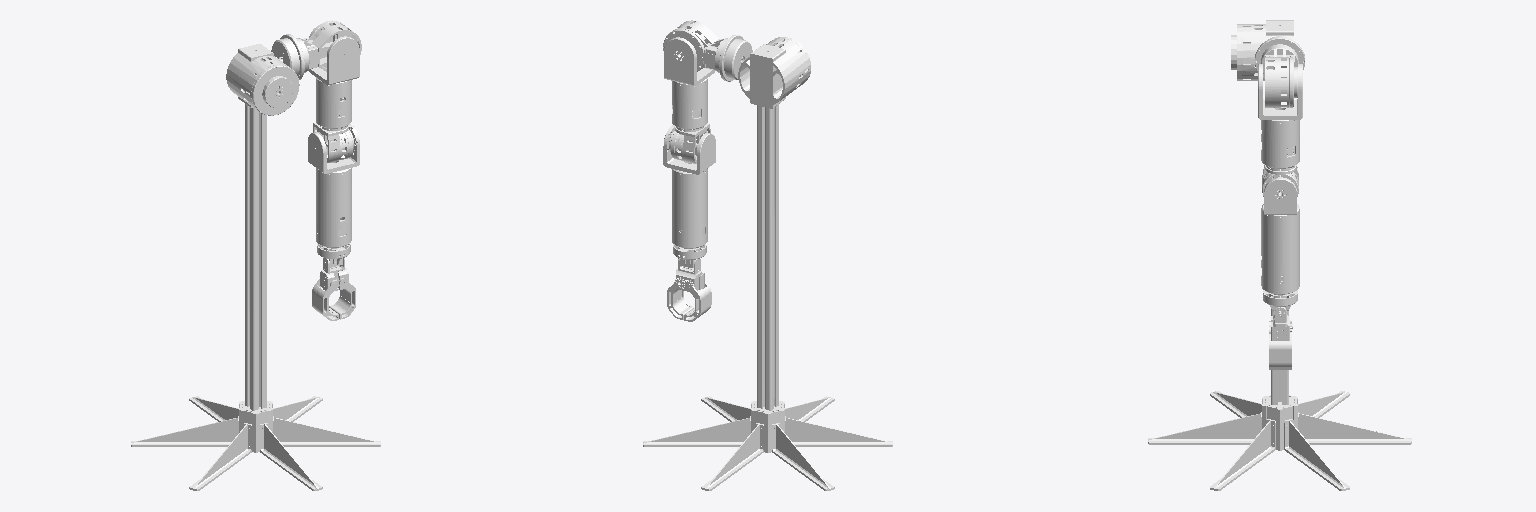
URDF robot description (arm1_URDF):
<?xml version='1.0' encoding='utf-8'?>
<robot name="arm1_URDF">
    <material name="white">
        <color rgba="1.0 1.0 1.0 1.0"/>
    </material>

    <link name="base">
        <visual name="base_visual">
            <origin xyz="0.0 0.0 0.0" rpy="0.0 0.0 0.0" />
            <geometry>
                <mesh filename="package://final_project/meshes/base.stl" scale="0.001 0.001 0.001" />
            </geometry>
            <material name="white"/> </visual>
        <collision name="base_collision">
            <origin xyz="0.0 0.0 0.0" rpy="0.0 0.0 0.0" />
            <geometry>
                <mesh filename="package://final_project/meshes/base.stl" scale="0.001 0.001 0.001" />
            </geometry>
        </collision>
    </link>

    <link name="G_2">
        <inertial>
            <origin xyz="-4.8145237741863414e-05 0.05165000270198917 -0.002790724958750035" rpy="0.0 -0.0 0.0" />
            <mass value="1.4023223893809473" />
            <inertia ixx="0.001272464352744418" iyy="0.0012741334763336012" izz="0.0020653341471157383" ixy="-1.110223053643625e-16" iyz="2.081909243396548e-17" ixz="-9.523880961390572e-07" />
        </inertial>
        <visual name="G_2_visual">
            <origin xyz="2.0128346989167768e-10 0.05165000270197766 0.01300000375024975" rpy="2.1137605554777422e-15 7.4824881293612875e-16 1.5707963267948968" />
            <geometry>
                <mesh filename="package://final_project/meshes/G_2.stl" scale="0.001 0.001 0.001" />
            </geometry>
            <material name="white"/> </visual>
        <collision name="G_2_collision">
            <origin xyz="2.0128346989167768e-10 0.05165000270197766 0.01300000375024975" rpy="2.1137605554777422e-15 7.4824881293612875e-16 1.5707963267948968" />
            <geometry>
                <mesh filename="package://final_project/meshes/G_2.stl" scale="0.001 0.001 0.001" />
            </geometry>
        </collision>
    </link>

    <link name="G_4">
        <inertial>
            <origin xyz="0.05935499319035209 0.004031725154343588 4.315289153140612e-06" rpy="0.0 -0.0 0.0" />
            <mass value="2.4058767362541364" />
            <inertia ixx="0.00254613790500402" iyy="0.007471226648819496" izz="0.006480794930182138" ixy="-0.00042671993814662407" iyz="-2.6220205331592417e-07" ixz="-5.712604365659679e-07" />
        </inertial>
        <visual name="G_4_visual">
            <origin xyz="-0.06519999979871717 -3.750249686906848e-09 2.7019765980185186e-09" rpy="-3.141592653589793 -5.163040450613385e-30 -3.8424124992884325e-16" />
            <geometry>
                <mesh filename="package://final_project/meshes/G_4.stl" scale="0.001 0.001 0.001" />
            </geometry>
            <material name="white"/> </visual>
        <collision name="G_4_collision">
            <origin xyz="-0.06519999979871717 -3.750249686906848e-09 2.7019765980185186e-09" rpy="-3.141592653589793 -5.163040450613385e-30 -3.8424124992884325e-16" />
            <geometry>
                <mesh filename="package://final_project/meshes/G_4.stl" scale="0.001 0.001 0.001" />
            </geometry>
        </collision>
    </link>

    <link name="G_5">
        <inertial>
            <origin xyz="-5.7580882307952665e-05 0.039280374970969485 0.08083082075167425" rpy="0.0 -0.0 0.0" />
            <mass value="3.466326586867893" />
            <inertia ixx="0.01833231958242143" iyy="0.016487101144509797" izz="0.006248046731958307" ixy="-2.1662482159196667e-08" iyz="4.07321564180425e-05" ixz="1.1403774099583153e-05" />
        </inertial>
        <visual name="G_5_visual">
            <origin xyz="2.0128354094595124e-10 0.04037499624975049 -0.16054999729802374" rpy="-3.1415926535897913 -1.5707963267948957 0" />
            <geometry>
                <mesh filename="package://final_project/meshes/G_5.stl" scale="0.001 0.001 0.001" />
            </geometry>
            <material name="white"/> </visual>
        <collision name="G_5_collision">
            <origin xyz="2.0128354094595124e-10 0.04037499624975049 -0.16054999729802374" rpy="-3.1415926535897913 -1.5707963267948957 0" />
            <geometry>
                <mesh filename="package://final_project/meshes/G_5.stl" scale="0.001 0.001 0.001" />
            </geometry>
        </collision>
    </link>

    <link name="G_7">
        <inertial>
            <origin xyz="-0.03998592210060096 -3.6356901924380903e-06 -0.002861891143963007" rpy="-3.589353794432332e-78 -0.0 0.0" />
            <mass value="2.368980623912673" />
            <inertia ixx="0.0019416311242154427" iyy="0.003355777604337584" izz="0.003523029622525935" ixy="2.4541574842760787e-07" iyz="2.145374126797002e-07" ixz="-0.0001750406574957637" />
        </inertial>
        <visual name="G_7_visual">
            <origin xyz="-0.057550002701976695 3.750245075595515e-09 -0.011500000201280365" rpy="3.141592653589793 -1.10361217236557e-15 -1.5707963267948697" />
            <geometry>
                <mesh filename="package://final_project/meshes/G_7.stl" scale="0.001 0.001 0.001" />
            </geometry>
            <material name="white"/> </visual>
        <collision name="G_7_collision">
            <origin xyz="-0.057550002701976695 3.750245075595515e-09 -0.011500000201280365" rpy="3.141592653589793 -1.10361217236557e-15 -1.5707963267948697" />
            <geometry>
                <mesh filename="package://final_project/meshes/G_7.stl" scale="0.001 0.001 0.001" />
            </geometry>
        </collision>
    </link>

    <link name="G_13">
        <inertial>
            <origin xyz="0.01623077756239752 -0.050990561533745905 0.020079991077276673" rpy="0.0 1.2668940227414186e-48 0.0" />
            <mass value="0.41626138634141535" />
            <inertia ixx="0.0004432468996341532" iyy="0.00016897175375006287" izz="0.0004028918180213751" ixy="-3.11176719610465e-05" iyz="4.0510613619287055e-06" ixz="-1.3099358946991532e-06" />
        </inertial>
        <visual name="G_13_visual">
            <origin xyz="2.0125682453908667e-10 -2.6986778323134787e-09 0.018499996249768325" rpy="-3.1415926535897545 2.7586953781964552e-14 1.5707963267948972" />
            <geometry>
                <mesh filename="package://final_project/meshes/G_13.stl" scale="0.001 0.001 0.001" />
            </geometry>
            <material name="white"/> </visual>
        <collision name="G_13_collision">
            <origin xyz="2.0125682453908667e-10 -2.6986778323134787e-09 0.018499996249768325" rpy="-3.1415926535897545 2.7586953781964552e-14 1.5707963267948972" />
            <geometry>
                <mesh filename="package://final_project/meshes/G_13.stl" scale="0.001 0.001 0.001" />
            </geometry>
        </collision>
    </link>

    <link name="G_25">
        <inertial>
            <origin xyz="-0.04021770217309118 3.594903811657252e-05 0.11308873190424187" rpy="0.0 -0.0 0.0" />
            <mass value="3.9257219266470815" />
            <inertia ixx="0.031008283294245542" iyy="0.032519063409173654" izz="0.006387139438659789" ixy="-6.178516376298404e-08" iyz="3.4212091688482806e-05" ixz="-9.652927935599465e-05" />
        </inertial>
        <visual name="G_25_visual">
            <origin xyz="-0.20042499979871867 0.0013749962497433582 -0.25704999729802425" rpy="3.1415926535897665 4.567492924801194e-16 -5.1174342541353607e-17" />
            <geometry>
                <mesh filename="package://final_project/meshes/G_25.stl" scale="0.001 0.001 0.001" />
            </geometry>
            <material name="white"/> </visual>
        <collision name="G_25_collision">
            <origin xyz="-0.20042499979871867 0.0013749962497433582 -0.25704999729802425" rpy="3.1415926535897665 4.567492924801194e-16 -5.1174342541353607e-17" />
            <geometry>
                <mesh filename="package://final_project/meshes/G_25.stl" scale="0.001 0.001 0.001" />
            </geometry>
        </collision>
    </link>

    <link name="G_27">
        <inertial>
            <origin xyz="4.24878932776096e-06 -3.6955642726543836e-08 -0.021545386615044605" rpy="0.0 -0.0 0.0" />
            <mass value="1.031862602100711" />
            <inertia ixx="0.0006021549368913082" iyy="0.0005618534325824154" izz="0.0004886525498680738" ixy="9.417161508603644e-10" iyz="-1.169084286841672e-10" ixz="4.453147348092709e-08" />
        </inertial>
        <visual name="G_27_visual">
            <origin xyz="-0.16042499979872615 -0.0013749962497555976 0.4026999973013231" rpy="-2.6664811242653585e-14 1.3305674229158715e-16 7.892991815695737e-17" />
            <geometry>
                <mesh filename="package://final_project/meshes/G_27.stl" scale="0.001 0.001 0.001" />
            </geometry>
            <material name="white"/> </visual>
        <collision name="G_27_collision">
            <origin xyz="-0.16042499979872615 -0.0013749962497555976 0.4026999973013231" rpy="-2.6664811242653585e-14 1.3305674229158715e-16 7.892991815695737e-17" />
            <geometry>
                <mesh filename="package://final_project/meshes/G_27.stl" scale="0.001 0.001 0.001" />
            </geometry>
        </collision>
    </link>

    <link name="G_28">
        <inertial>
            <origin xyz="-0.068347930458783 -0.00019460842477868307 0.029549211332298847" rpy="-3.067013772411597e-121 -0.0 0.0" />
            <mass value="0.8916811263276078" />
            <inertia ixx="0.0005694478303693226" iyy="0.0018081931798489266" izz="0.0015723146734181888" ixy="4.6348577789113733e-07" iyz="-5.373036988277966e-06" ixz="0.00035615545917725425" />
        </inertial>
        <visual name="G_28_visual">
            <origin xyz="0.4529499973013176 -0.0013749962497559382 0.17742499979873572" rpy="-2.7592757999390442e-14 1.570796326794874 0" />
            <geometry>
                <mesh filename="package://final_project/meshes/G_28.stl" scale="0.001 0.001 0.001" />
            </geometry>
            <material name="white"/> </visual>
        <collision name="G_28_collision">
            <origin xyz="0.4529499973013176 -0.0013749962497559382 0.17742499979873572" rpy="-2.7592757999390442e-14 1.570796326794874 0" />
            <geometry>
                <mesh filename="package://final_project/meshes/G_28.stl" scale="0.001 0.001 0.001" />
            </geometry>
        </collision>
    </link>

    <link name="G_50">
        <inertial>
            <origin xyz="-0.051650002701988454 -4.814918927475764e-05 -0.002790728507716764" rpy="0.0 -0.0 0.0" />
            <mass value="1.4023223893809473" />
            <inertia ixx="0.0012741334763335978" iyy="0.001272464352744418" izz="0.0020653341471157383" ixy="8.847089727481716e-17" iyz="-9.523880961507841e-07" ixz="-2.770252915355874e-17" />
        </inertial>
        <visual name="G_50_visual">
            <origin xyz="-0.051650002701976695 -3.750249621958801e-09 0.01300000020128298" rpy="-1.4119781732713213e-14 3.5247026839031876e-16 3.141592653589793" />
            <geometry>
                <mesh filename="package://final_project/meshes/G_50.stl" scale="0.001 0.001 0.001" />
            </geometry>
            <material name="white"/> </visual>
        <collision name="G_50_collision">
            <origin xyz="-0.051650002701976695 -3.750249621958801e-09 0.01300000020128298" rpy="-1.4119781732713213e-14 3.5247026839031876e-16 3.141592653589793" />
            <geometry>
                <mesh filename="package://final_project/meshes/G_50.stl" scale="0.001 0.001 0.001" />
            </geometry>
        </collision>
    </link>

    <joint name="강체-21" type="fixed">
        <origin xyz="0.0998 -0.020625 -0.051650000000000064" rpy="1.5707963267948966 4.930380657631324e-32 9.041975947780647e-48" />
        <parent link="G_4" />
        <child link="G_2" />
    </joint>

    <joint name="회전-22" type="continuous">
        <origin xyz="-3.552713678800501e-17 0.051650000000000064 0.019750000000000004" rpy="-1.5707963267948966 -9.041975947780647e-48 2.7550144169516306e-65" />
        <parent link="G_2" />
        <child link="G_5" />
        <axis xyz="-0.0 1.0 4.5415775653176777e-32" />
    </joint>

    <joint name="회전-23" type="continuous">
        <origin xyz="-0.0001249999999999929 0.039 0.19194999999999993" rpy="3.1415926535897913 1.5707963267948966 0" />
        <parent link="G_5" />
        <child link="G_7" />
        <axis xyz="1.0 -6.91019838872938e-32 -1.2351231148954849e-14" />
    </joint>

    <joint name="회전-24" type="continuous">
        <origin xyz="-0.05755000000000066 7.382983113757291e-17 -0.04" rpy="3.141592653589793 1.5707963267948841 0" />
        <parent link="G_7" />
        <child link="G_25" />
        <axis xyz="-1.0 -0.0 -1.0579247490760367e-31" />
    </joint>

    <joint name="회전-25" type="continuous">
        <origin xyz="-0.04 0.0 0.24949997999999995" rpy="3.141592653589793 -5.555580851020513e-31 -1.70453562458216e-33" />
        <parent link="G_25" />
        <child link="G_27" />
        <axis xyz="0.0 -2.6982744187943636e-18 1.0" />
    </joint>

    <joint name="회전-26" type="continuous">
        <origin xyz="0.017250000000000015 2.7755575615628914e-19 -0.05025000000000006" rpy="2.0264192044396204e-30 -1.5707963267948966 0" />
        <parent link="G_27" />
        <child link="G_28" />
        <axis xyz="0.0 1.9888065789143055e-30 0.9999999999999999" />
    </joint>

    <joint name="회전-28" type="continuous">
        <origin xyz="-0.0507500000000001 0.02025 0.004250000000000007" rpy="1.570796326794911 1.5707963267948746 0" />
        <parent link="G_28" />
        <child link="G_13" />
        <axis xyz="-1.2408751811923e-32 1.4417991576258236e-14 1.0" />
    </joint>

    <joint name="강체-29" type="fixed">
        <origin xyz="0.09099999979871715 -3.750249421563545e-09 1.0266500027019778" rpy="-3.141592653589793 -1.5707963267948966 0" />
        <parent link="base" />
        <child link="G_50" />
    </joint>

    <joint name="회전-30" type="continuous">
        <origin xyz="-0.051650000000000064 0.0 0.019749999999999997" rpy="5.026394152510874e-33 -1.5707963267948966 0" />
        <parent link="G_50" />
        <child link="G_4" />
        <axis xyz="-1.0 0.0 0.0" />
    </joint>

    <ros2_control name="FakeSystem" type="system">
        <hardware>
            <plugin>mock_components/GenericSystem</plugin>
        </hardware>
        <joint name="회전-30">
            <command_interface name="position"/>
            <state_interface name="position"><param name="initial_value">0.0</param></state_interface>
            <state_interface name="velocity"/>
        </joint>
        <joint name="회전-22">
            <command_interface name="position"/>
            <state_interface name="position"><param name="initial_value">0.0</param></state_interface>
            <state_interface name="velocity"/>
        </joint>
        <joint name="회전-23">
            <command_interface name="position"/>
            <state_interface name="position"><param name="initial_value">0.0</param></state_interface>
            <state_interface name="velocity"/>
        </joint>
        <joint name="회전-24">
            <command_interface name="position"/>
            <state_interface name="position"><param name="initial_value">0.0</param></state_interface>
            <state_interface name="velocity"/>
        </joint>
        <joint name="회전-25">
            <command_interface name="position"/>
            <state_interface name="position"><param name="initial_value">0.0</param></state_interface>
            <state_interface name="velocity"/>
        </joint>
        <joint name="회전-26">
            <command_interface name="position"/>
            <state_interface name="position"><param name="initial_value">0.0</param></state_interface>
            <state_interface name="velocity"/>
        </joint>
        <joint name="회전-28">
            <command_interface name="position"/>
            <state_interface name="position"><param name="initial_value">0.0</param></state_interface>
            <state_interface name="velocity"/>
        </joint>
    </ros2_control>
</robot>

--- Render facts (derived) ---
3 views of the same robot in one strip: view 1: azimuth 30°, elevation 25°; view 2: azimuth 150°, elevation 25°; view 3: azimuth 270°, elevation 25° (orthographic).
Model arm1_URDF with 10 links and 9 joints (7 continuous, 2 fixed), rooted at base, posed every joint at zero.
Links seen in each view (by area): view 1: base, G_25, G_5, G_4, G_28, G_7, G_50, G_13; view 2: base, G_25, G_5, G_28, G_50, G_7, G_4, G_13, G_2; view 3: base, G_25, G_5, G_4, G_13, G_28, G_50, G_7.
Boxes of the visible links, x1,y1,x2,y2 form: base: [131, 44, 380, 490]; G_25: [308, 124, 359, 247]; G_5: [308, 25, 359, 128]; G_4: [296, 22, 361, 72]; G_28: [312, 258, 348, 320]; G_7: [313, 123, 354, 162]; G_50: [271, 34, 304, 79]; G_13: [329, 276, 355, 319]; base: [643, 37, 892, 490]; G_25: [663, 125, 715, 248]; G_5: [664, 37, 715, 129]; G_28: [676, 258, 711, 321]; G_50: [719, 35, 752, 81]; G_7: [669, 111, 710, 163]; G_4: [673, 20, 727, 72]; G_13: [667, 277, 693, 319]; G_2: [663, 29, 703, 71]; base: [1148, 20, 1411, 490]; G_25: [1261, 177, 1299, 294]; G_5: [1258, 64, 1302, 168]; G_4: [1261, 44, 1298, 107]; G_13: [1269, 325, 1291, 369]; G_28: [1269, 307, 1292, 340]; G_50: [1255, 36, 1304, 78]; G_7: [1262, 165, 1298, 196].
Size in the robot's own frame: 0.5241 by 0.5836 by 1.03 metres.
Meshes: 10 distinct files referenced, 10 mesh visuals loaded (10 binary STL).
